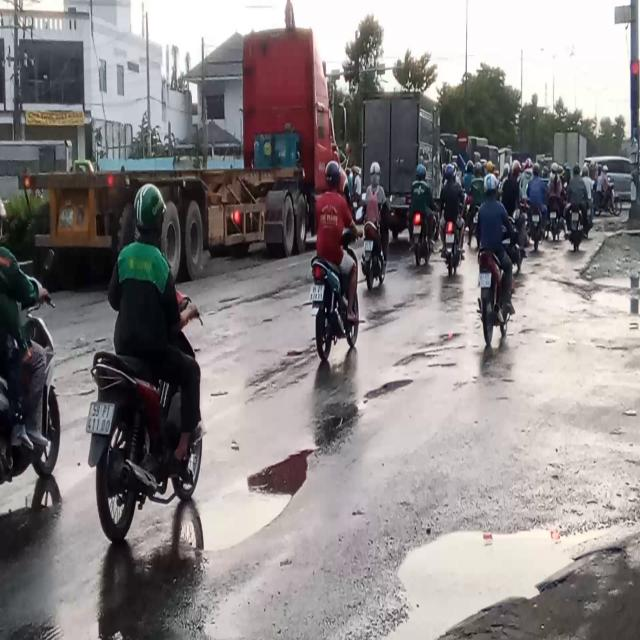bien_trang: (85, 397, 116, 438), (307, 280, 325, 303)
